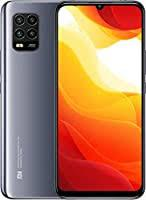Smartphone: (54, 0, 141, 197), (6, 5, 56, 196)
